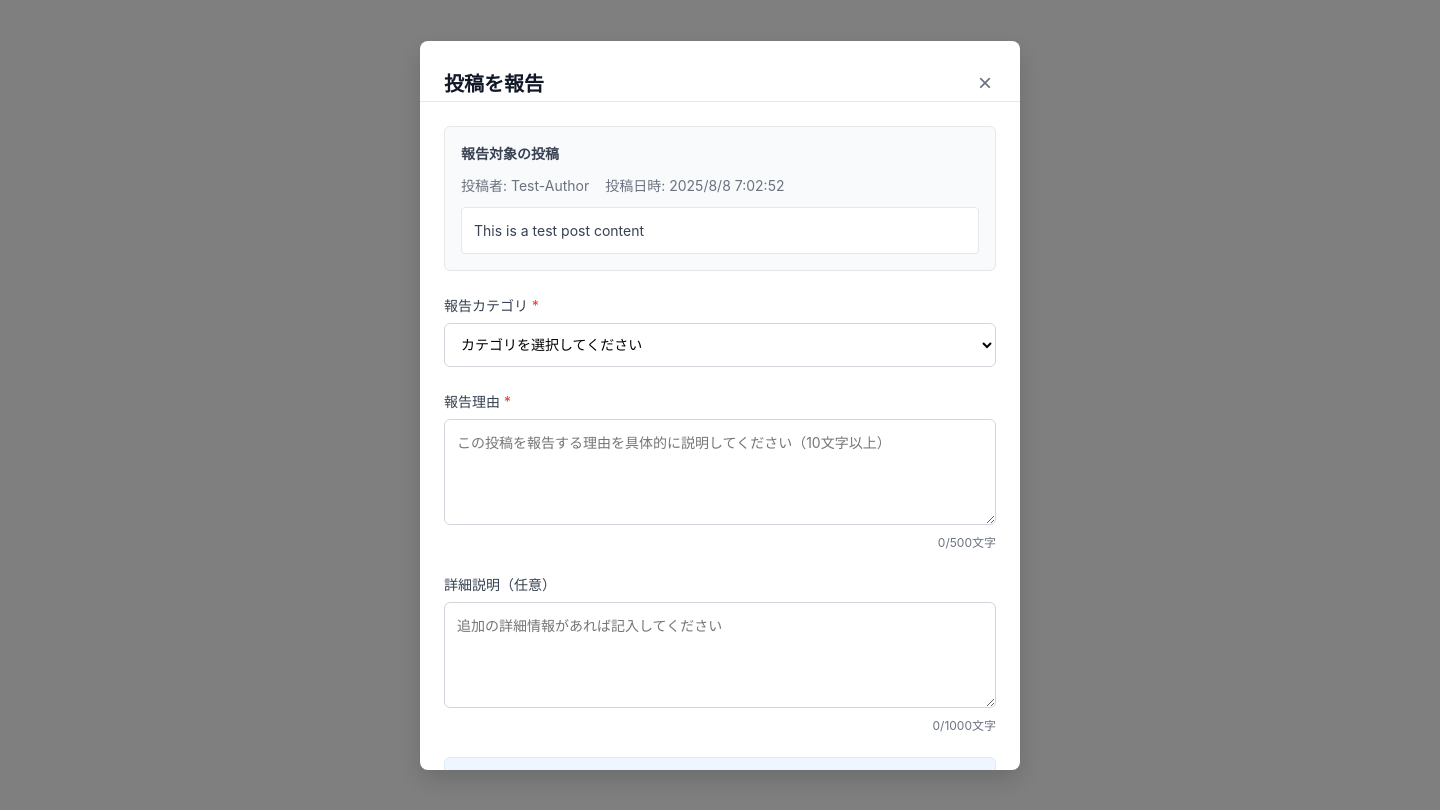
Test: PostReportDialog › shows category description when selected
The width and height of the screenshot is (1440, 810).
Select "スパム・宣伝" in the dropdown labelled "報告カテゴリ *": coordinates (720, 344) [444,322,996,366]
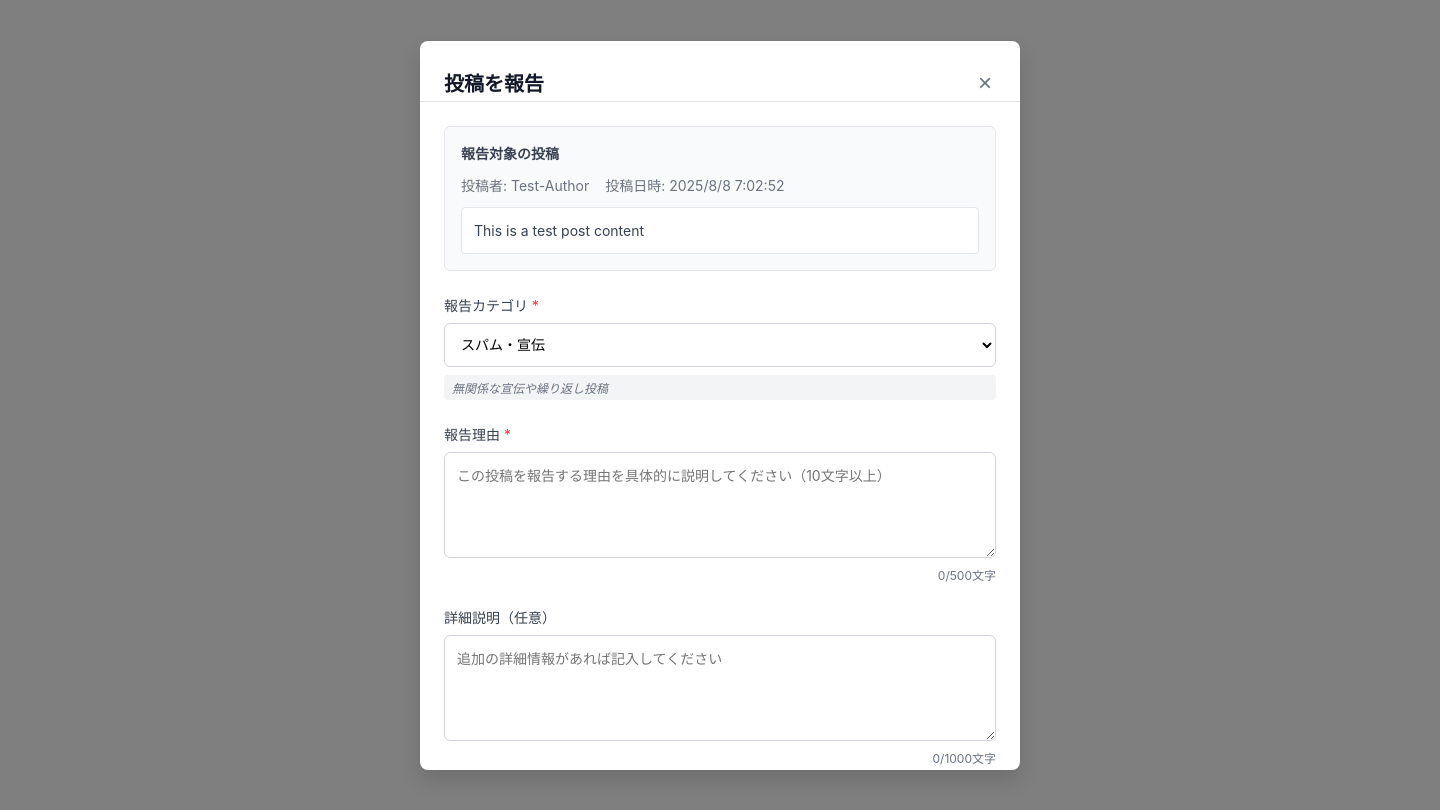
Check: the text "無関係な宣伝や繰り返し投稿" is shown, box [444,374,996,400]
